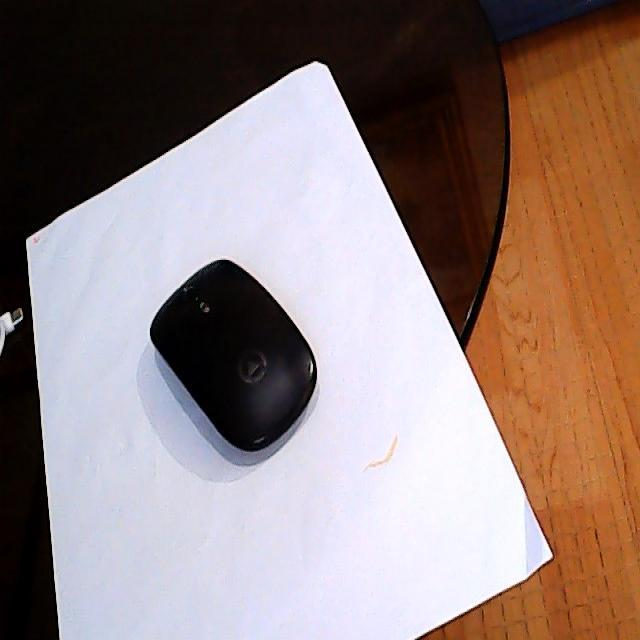-keyboard-: (148, 254, 322, 455)
